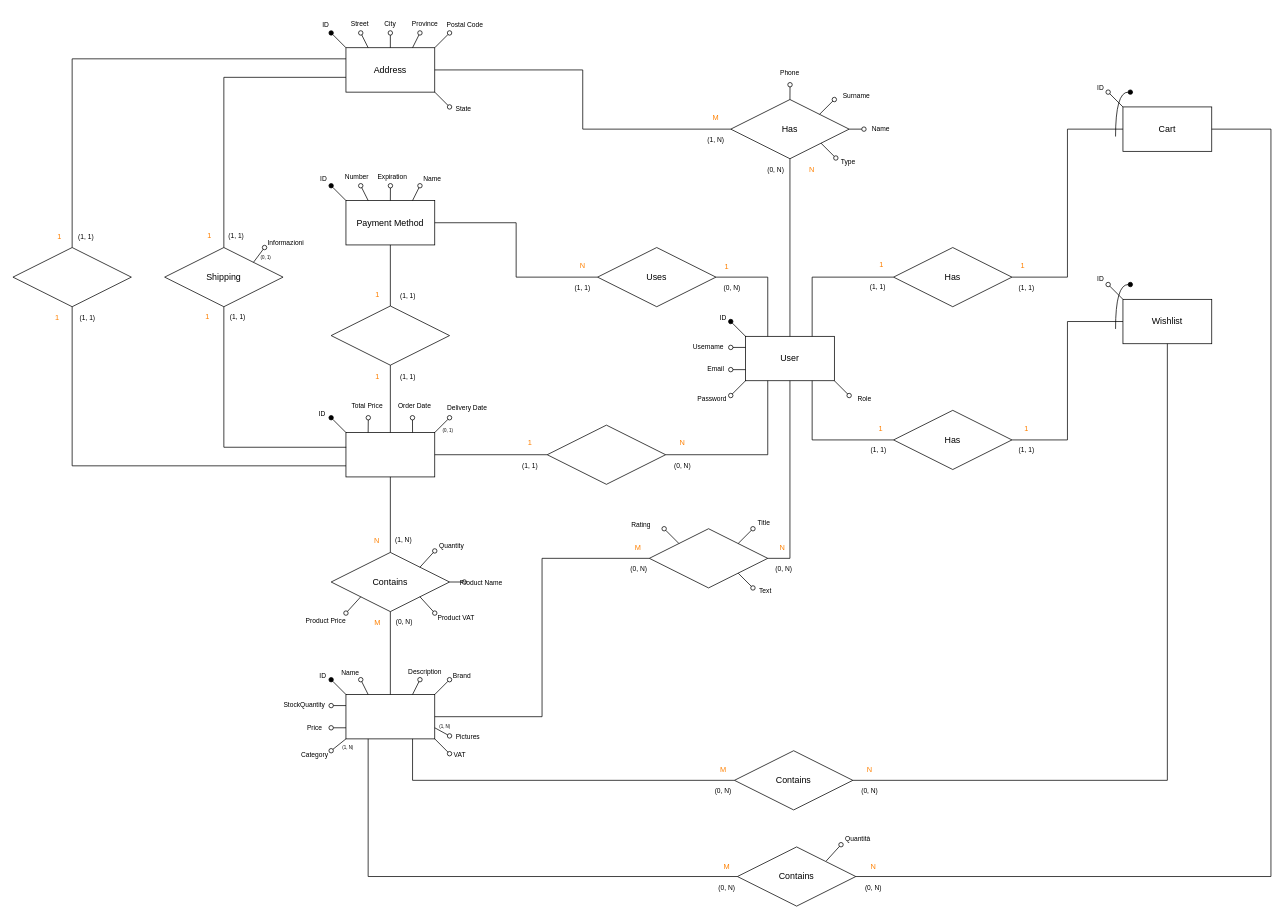
Image size: 1285x919. Some labels were removed from this diagram. Each missing label, with the box of its shape:
Billing: (12, 247, 131, 307)
Order: (345, 432, 435, 477)
Payment: (330, 305, 450, 365)
Places: (546, 424, 666, 484)
Product: (345, 694, 435, 739)
Review: (649, 528, 768, 588)
